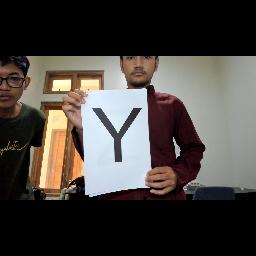y: (86, 102, 146, 166)
